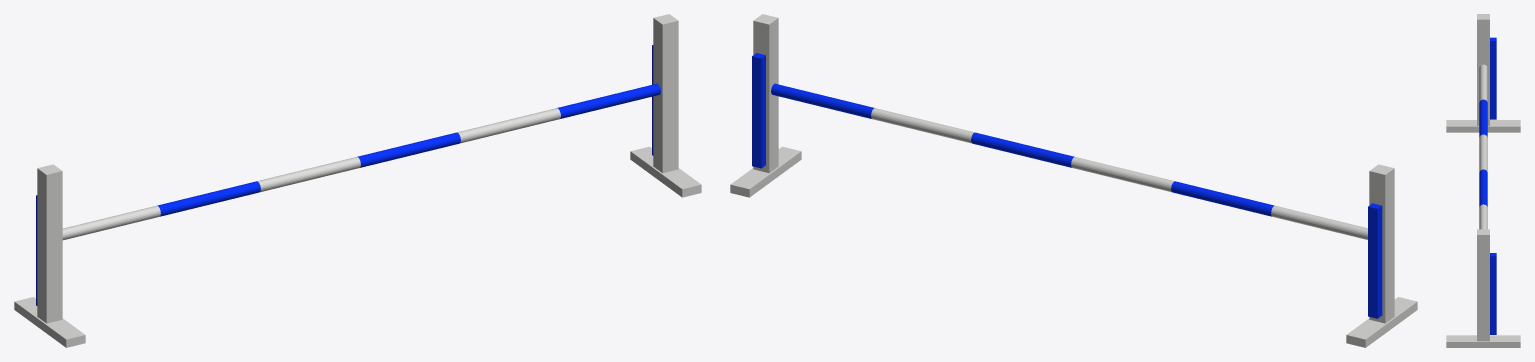
Rendered from Hurdle_Agility.fbx.
3 views of the same model, side by side, from view 1: azimuth 30°, elevation 25°; view 2: azimuth 150°, elevation 25°; view 3: azimuth 270°, elevation 25° (orthographic). The views are drawn at different scales.
Visible parts, largest first — view 1: Post_L, Post_R, Foot_L, Foot_R, Bar_1, Bar_3, Bar_4, Bar_5, Bar_2, Bar_0; view 2: Post_L, Post_R, Wing_L, Wing_R, Foot_R, Foot_L, Bar_1, Bar_3, Bar_4, Bar_5, Bar_2, Bar_0; view 3: Post_R, Post_L, Foot_R, Foot_L, Wing_L, Wing_R, Bar_0, Bar_1, Bar_2, Bar_3, Bar_4.
Part boxes in pixels (x1,y1,x2,y2): Post_L: [37, 164, 62, 323]; Post_R: [653, 14, 678, 173]; Foot_L: [14, 297, 85, 347]; Foot_R: [630, 146, 701, 197]; Bar_1: [157, 181, 260, 216]; Bar_3: [357, 132, 460, 167]; Bar_4: [457, 108, 560, 143]; Bar_5: [557, 83, 660, 118]; Bar_2: [257, 157, 360, 192]; Bar_0: [62, 205, 160, 240]; Post_L: [1369, 164, 1394, 323]; Post_R: [753, 14, 778, 173]; Wing_L: [1368, 203, 1382, 318]; Wing_R: [752, 53, 765, 168]; Foot_R: [730, 146, 801, 197]; Foot_L: [1346, 297, 1417, 347]; Bar_1: [1171, 181, 1274, 216]; Bar_3: [971, 132, 1074, 167]; Bar_4: [871, 108, 974, 143]; Bar_5: [771, 83, 874, 118]; Bar_2: [1071, 157, 1174, 192]; Bar_0: [1271, 205, 1367, 239]; Post_R: [1477, 229, 1489, 341]; Post_L: [1477, 14, 1489, 125]; Foot_R: [1446, 335, 1520, 347]; Foot_L: [1446, 120, 1520, 132]; Wing_L: [1490, 37, 1496, 119]; Wing_R: [1490, 253, 1496, 334]; Bar_0: [1479, 64, 1487, 101]; Bar_1: [1479, 99, 1487, 136]; Bar_2: [1479, 134, 1487, 171]; Bar_3: [1479, 169, 1487, 206]; Bar_4: [1479, 204, 1487, 229].
Bounding box in the file's own units: 3.18 × 0.75 × 0.45.
